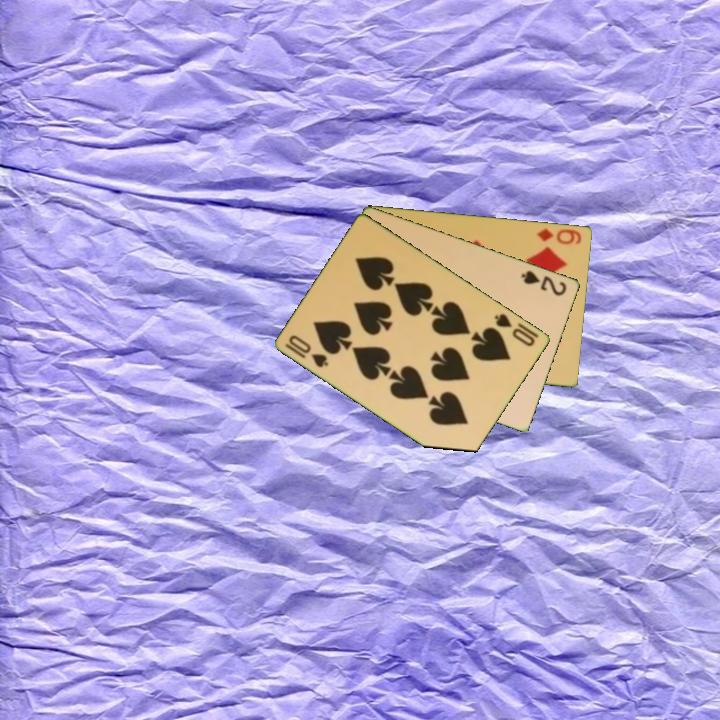10s: (282, 331, 332, 371), (491, 310, 538, 349)
2s: (518, 267, 570, 299)
6d: (534, 224, 584, 247)
